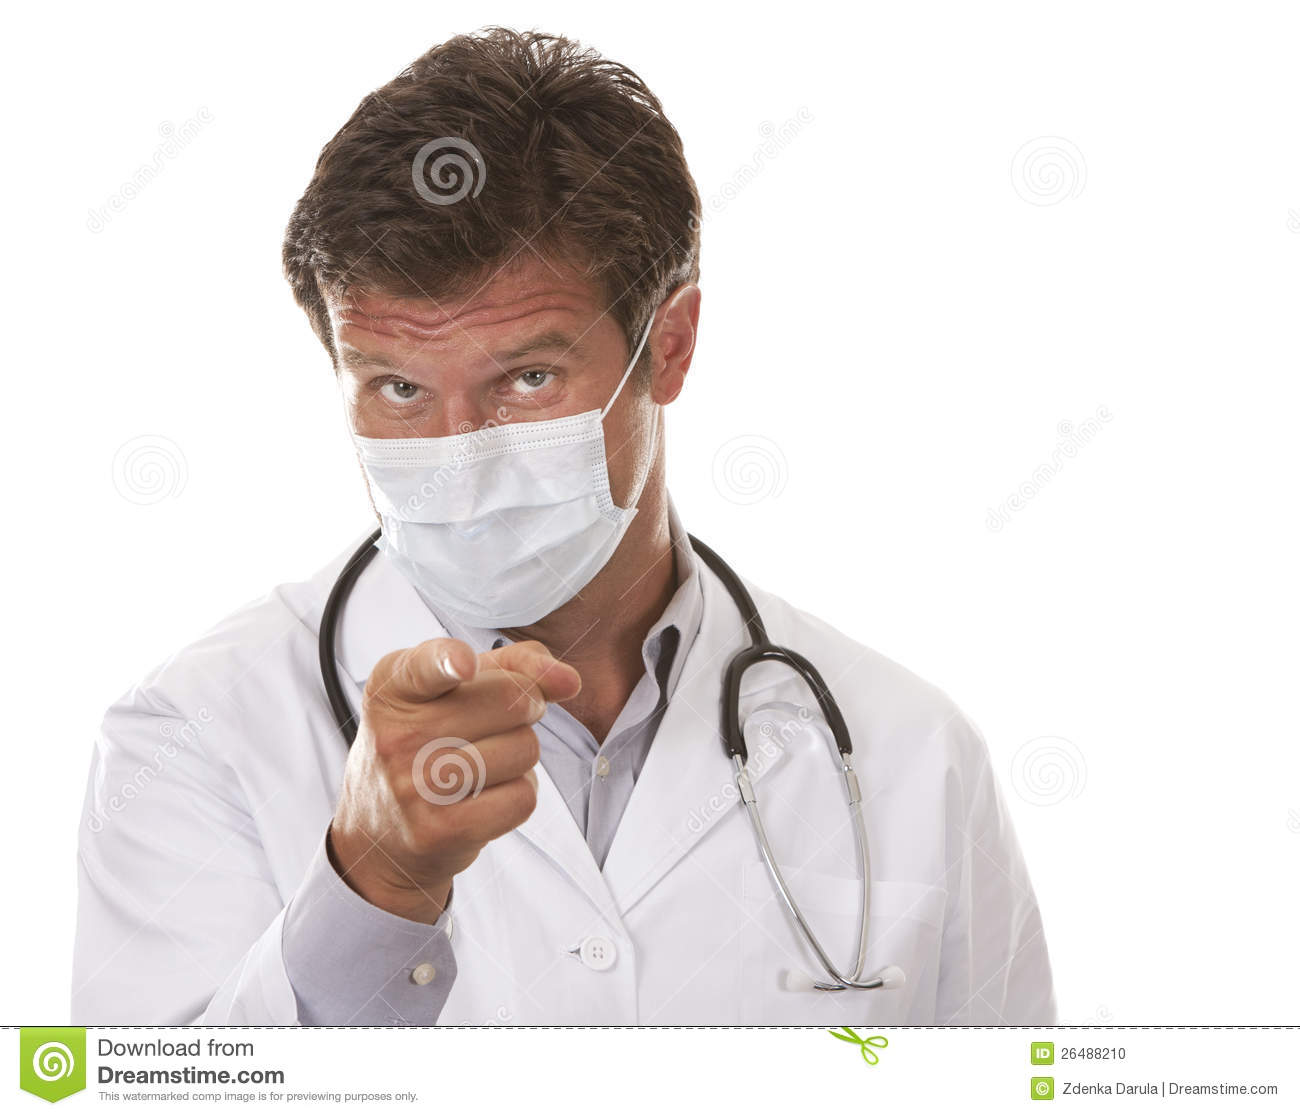mask: (332, 429, 648, 634)
